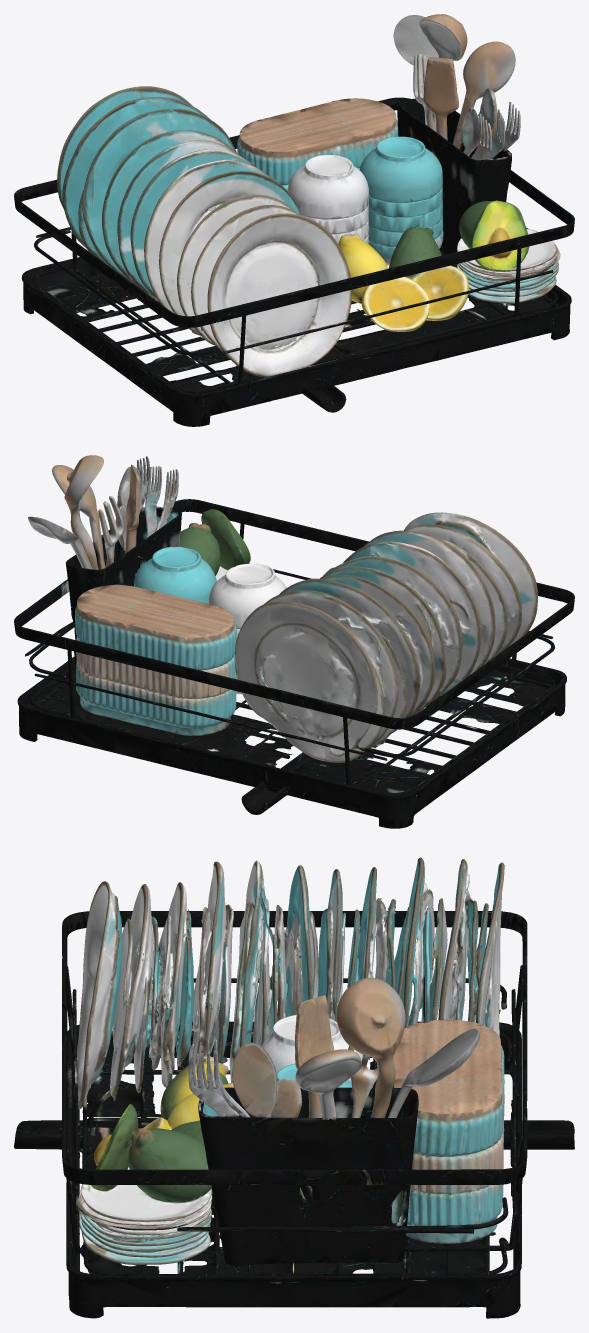
The picture shows the model from 3 angles, top to bottom: view 1: azimuth 30°, elevation 25°; view 2: azimuth 150°, elevation 25°; view 3: azimuth 270°, elevation 25°; orthographic projection. The views are drawn at different scales.
Bounding box in the file's own units: 1.9 × 1.03 × 1.62.
Materials: 1 (1 with a texture image).
